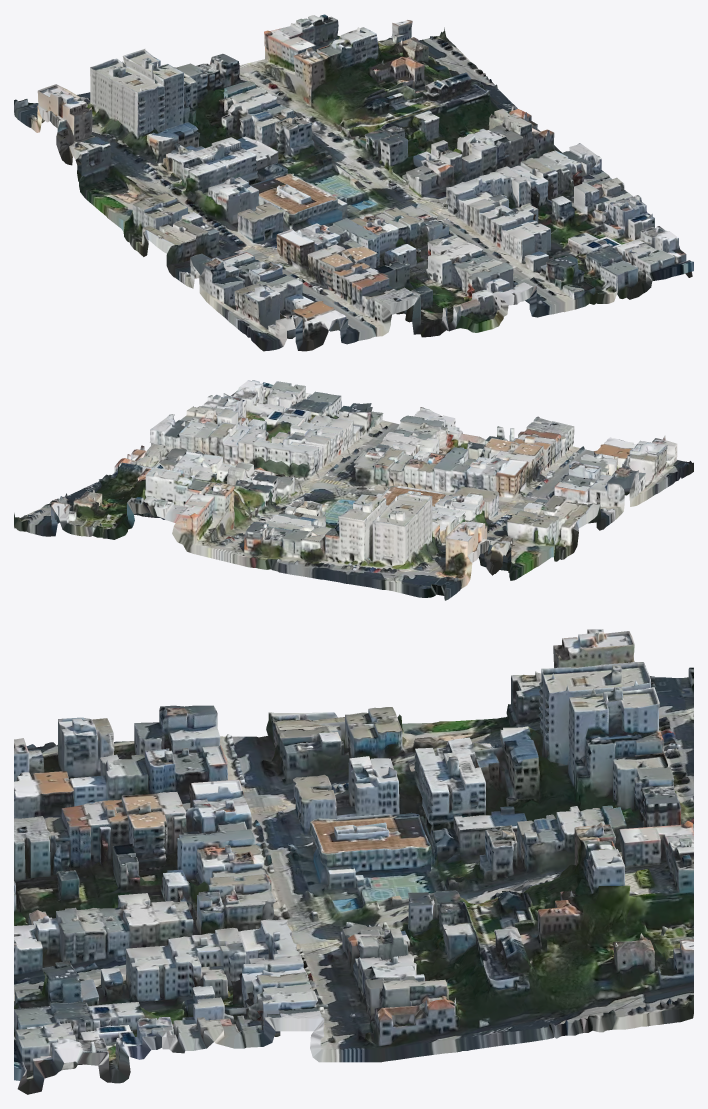
The model's file is z17-20965-50649-h0-yup-uvflip-v3-world.glb.
The picture shows the model from 3 angles, top to bottom: view 1: azimuth 30°, elevation 25°; view 2: azimuth 150°, elevation 25°; view 3: azimuth 270°, elevation 25°; orthographic projection. The views are drawn at different scales.
Bounding box in the file's own units: 241 × 76.48 × 243.
Materials: 1 (1 with a texture image).
